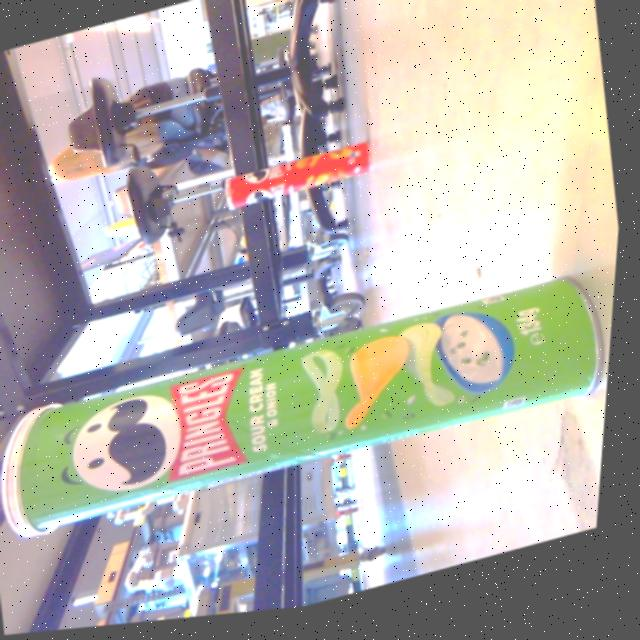greenpringles: (0, 239, 623, 561)
redpringles: (199, 126, 396, 231)
